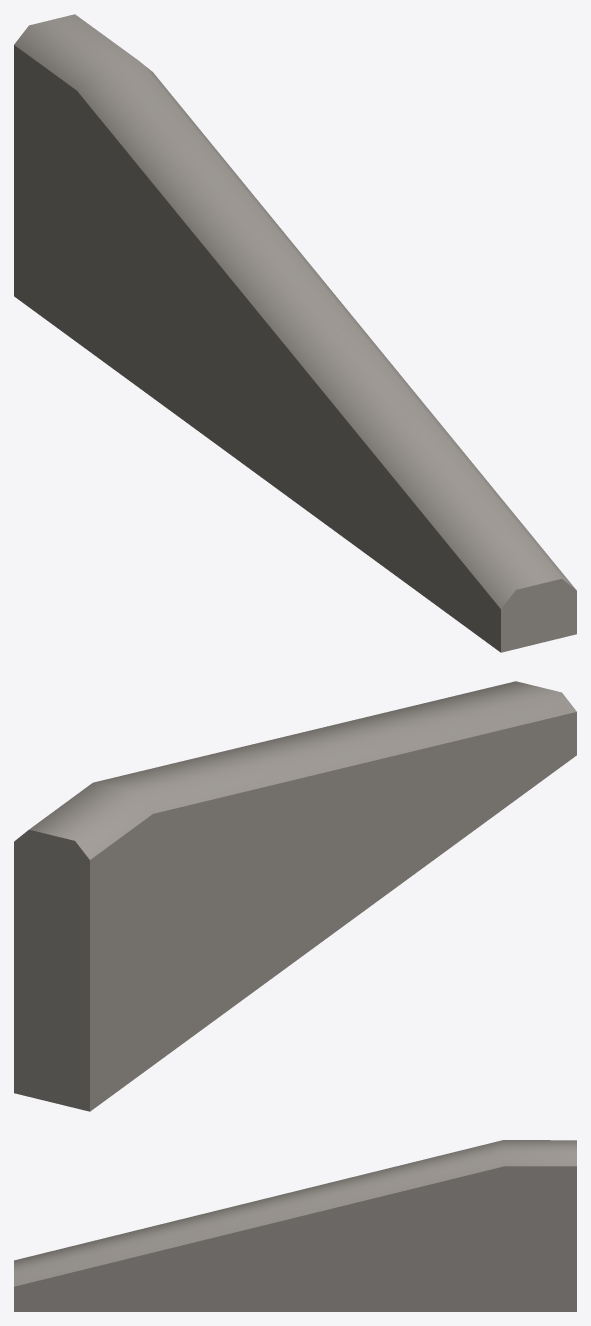
File: Stairs Side 01.FBX
3 views of the same model, one above another, from view 1: azimuth 30°, elevation 25°; view 2: azimuth 150°, elevation 25°; view 3: azimuth 270°, elevation 25° (orthographic). The views are drawn at different scales.
Parts seen in each view (by area): view 1: Stairs Side 01; view 2: Stairs Side 01; view 3: Stairs Side 01.
Boxes of the visible parts, x1,y1,x2,y2 form: Stairs Side 01: (14,14,576,652); Stairs Side 01: (14,681,576,1111); Stairs Side 01: (14,1140,576,1311).
Size of the model in its own units: 33.93 by 114 by 376.
1 material, 1 textured.
